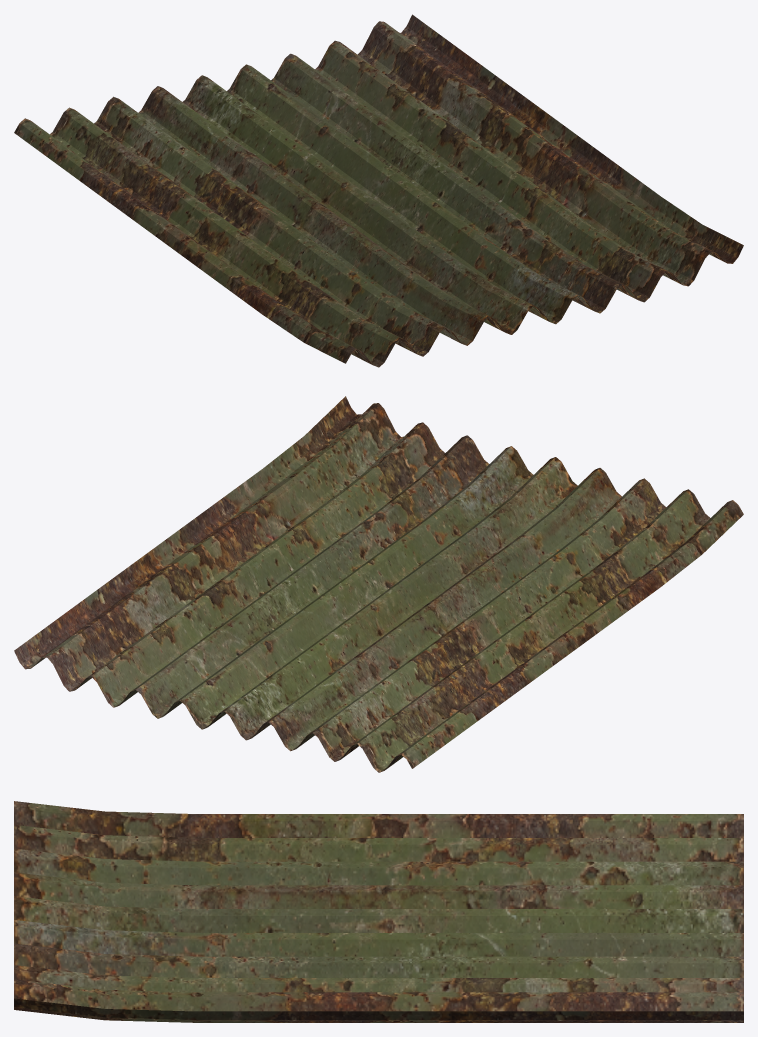
File: DiscardedCorrugatedSheet.fbx
The picture shows the model from 3 angles, top to bottom: view 1: azimuth 30°, elevation 25°; view 2: azimuth 150°, elevation 25°; view 3: azimuth 270°, elevation 25°; orthographic projection. The views are drawn at different scales.
Parts seen in each view (by area): view 1: DiscardedCorrugatedSheet; view 2: DiscardedCorrugatedSheet; view 3: DiscardedCorrugatedSheet.
Part boxes in pixels (left/top/right/bottom): DiscardedCorrugatedSheet: left=14, top=14, right=743, bottom=367; DiscardedCorrugatedSheet: left=14, top=396, right=743, bottom=772; DiscardedCorrugatedSheet: left=14, top=801, right=743, bottom=1022.
Bounding box in the file's own units: 88 × 9.75 × 127.
